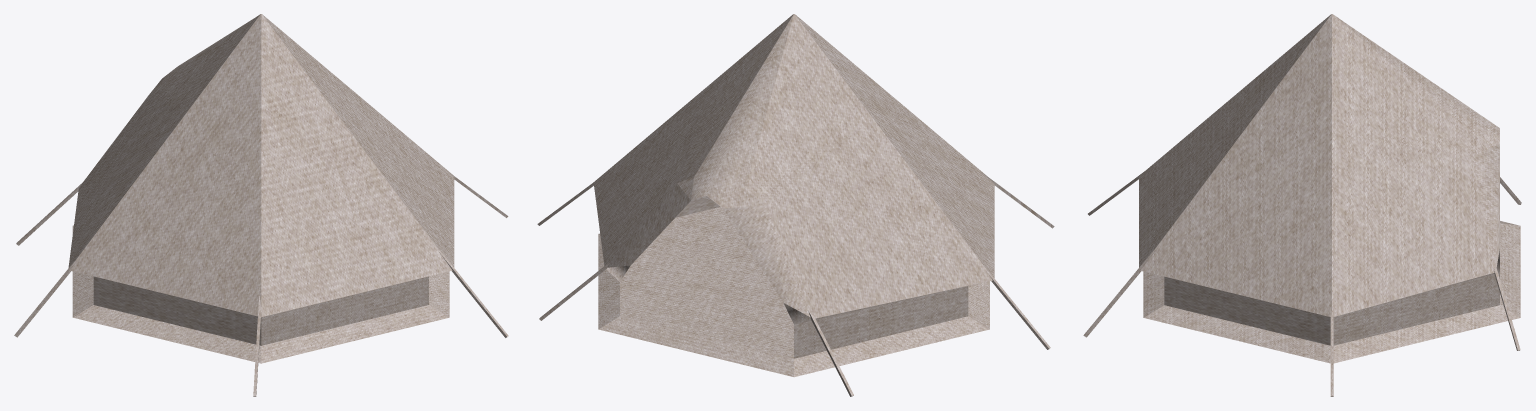
File: KrajomTent.fbx
The picture shows the model from 3 angles, left to right: view 1: azimuth 30°, elevation 25°; view 2: azimuth 150°, elevation 25°; view 3: azimuth 270°, elevation 25°; orthographic projection. The views are drawn at different scales.
Visible parts, largest first — view 1: KrajomTent; view 2: KrajomTent; view 3: KrajomTent.
Boxes of the visible parts, bbox=[...] form: KrajomTent: bbox=[14, 14, 508, 396]; KrajomTent: bbox=[537, 14, 1054, 396]; KrajomTent: bbox=[1083, 14, 1521, 396].
Size of the model in its own units: 7.21 by 3.67 by 5.55.
